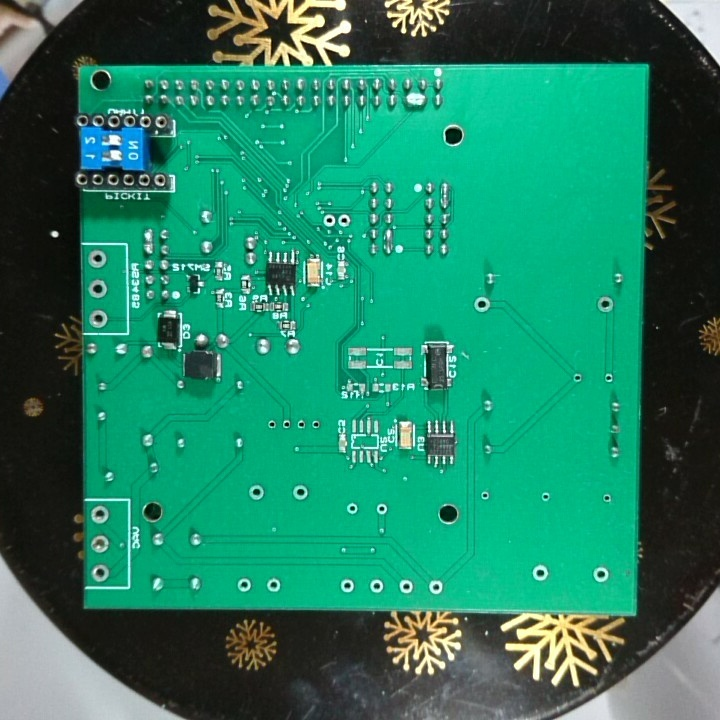F: (85, 276, 109, 301), (594, 292, 617, 315), (247, 481, 269, 505), (86, 246, 108, 270), (87, 306, 109, 330), (89, 561, 111, 585), (291, 479, 312, 504), (89, 503, 111, 526), (590, 562, 611, 586), (529, 562, 550, 586), (471, 293, 493, 315), (89, 533, 111, 555), (234, 575, 257, 594), (338, 576, 357, 597), (342, 499, 361, 520), (374, 499, 391, 521), (426, 577, 444, 597), (367, 578, 385, 598), (397, 578, 414, 597), (265, 576, 282, 595), (320, 211, 338, 228), (337, 211, 353, 230), (264, 416, 280, 434), (308, 415, 322, 434), (599, 489, 614, 506), (477, 487, 492, 503), (570, 370, 585, 386), (294, 417, 308, 434), (601, 371, 616, 386), (279, 417, 293, 433), (538, 489, 554, 503)
P: (437, 179, 454, 210), (402, 90, 428, 110), (141, 227, 156, 258), (381, 226, 396, 255)
